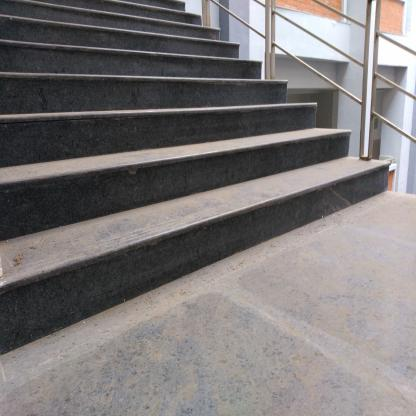stairs: (2, 44, 241, 318)
